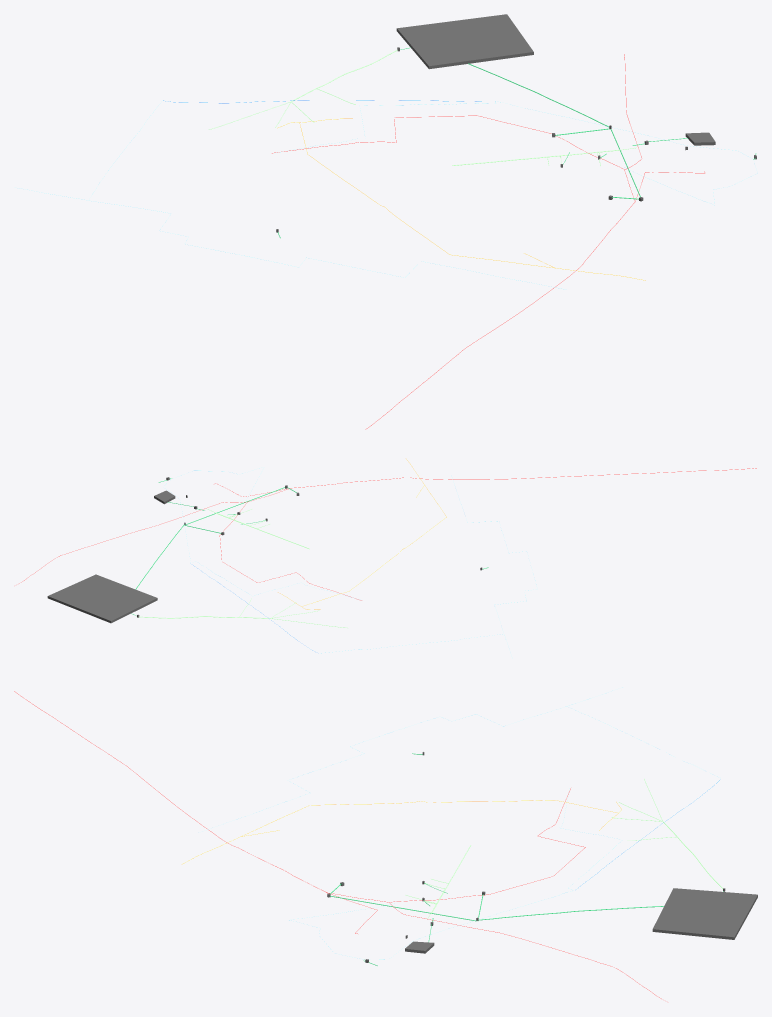
The model's file is reseaux.glb.
The picture shows the model from 3 angles, top to bottom: view 1: azimuth 30°, elevation 25°; view 2: azimuth 150°, elevation 25°; view 3: azimuth 270°, elevation 25°; orthographic projection. The views are drawn at different scales.
Parts seen in each view (by area): view 1: SITE_regard_fosse; view 2: SITE_regard_fosse; view 3: SITE_regard_fosse.
Part boxes in pixels (<box>): SITE_regard_fosse: <box>396,14,533,69</box>; SITE_regard_fosse: <box>47,574,157,623</box>; SITE_regard_fosse: <box>652,888,757,939</box>.
Size of the model in its own units: 177 by 11.34 by 199.
